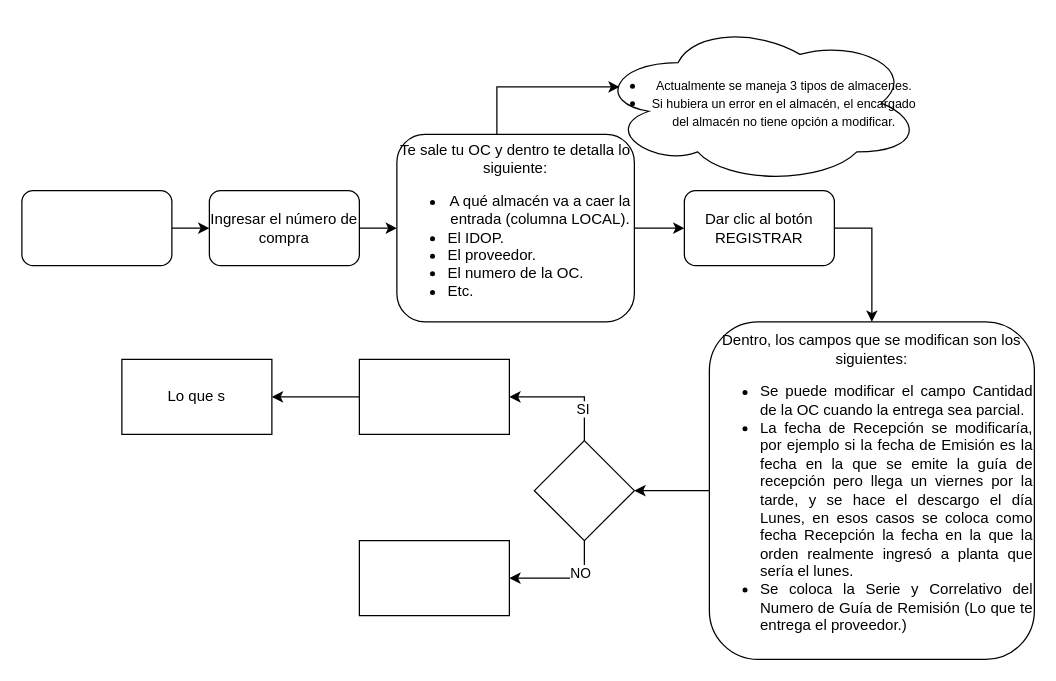
This 1056x681 diagram has some shape labels left out. Here are the shapes that lost their labels. From the top down, the centre of each, then its label:
[96,227]: Ir al Modulo Almacén / Ingreso Guías Compras
[433,396]: El sistema actualmente no me generaría una orden de ingreso.
[583,490]: ¿La orden de entrega es parcial?
